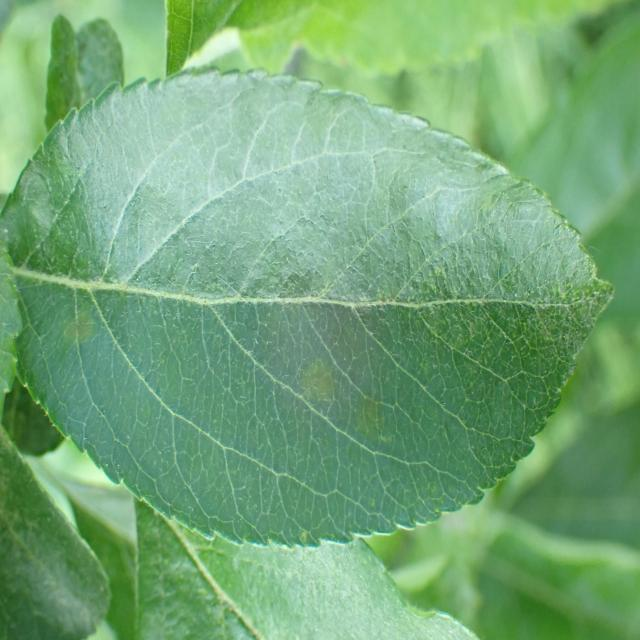scab: (30, 98, 601, 512)
